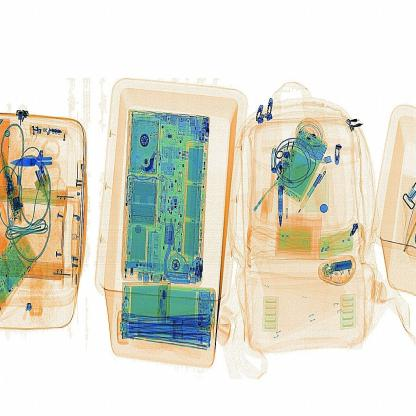gun: (10, 128, 72, 190)
